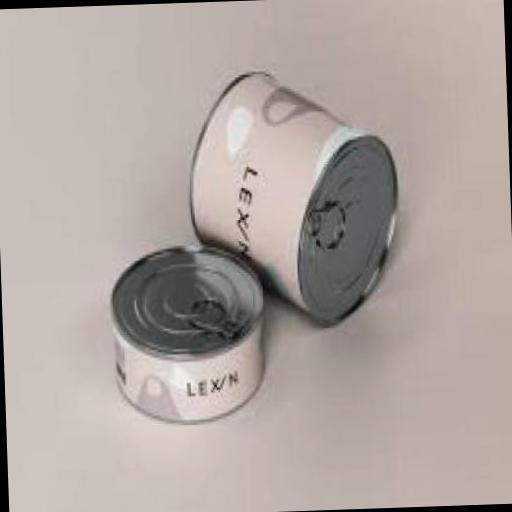metal: (184, 64, 400, 327), (104, 242, 269, 422)
